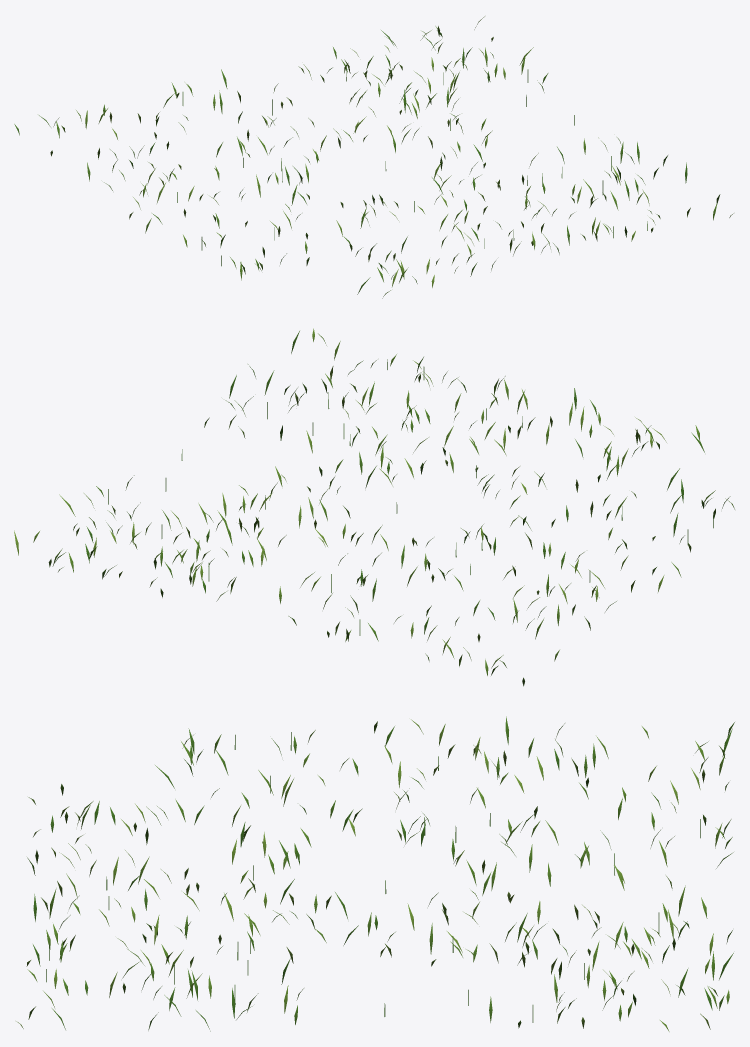
Rendered from grass-1.glb.
The picture shows the model from 3 angles, top to bottom: view 1: azimuth 30°, elevation 25°; view 2: azimuth 150°, elevation 25°; view 3: azimuth 270°, elevation 25°; orthographic projection. The views are drawn at different scales.
Parts seen in each view (by area): view 1: grass-1; view 2: grass-1; view 3: grass-1.
Part boxes in pixels (bbox=[...]): grass-1: bbox=[14, 16, 733, 298]; grass-1: bbox=[14, 328, 734, 686]; grass-1: bbox=[16, 716, 734, 1031].
Size of the model in its own units: 10.22 by 0.4442 by 10.21.
